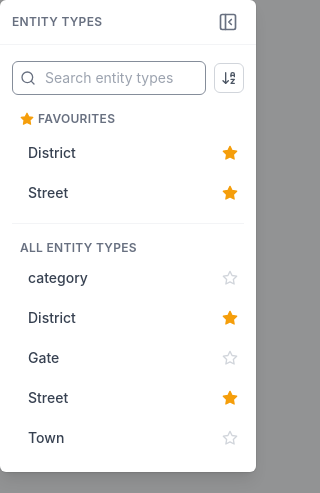
Test: ObjectTypeExplorer › favourites (PandiO/knk-workspace#194) › keeps favourites on top through search and the Z–A sort
The image size is (320, 493).
Click the button named "Sort Z to A" at x=229, y=78, box [214,63,244,93]
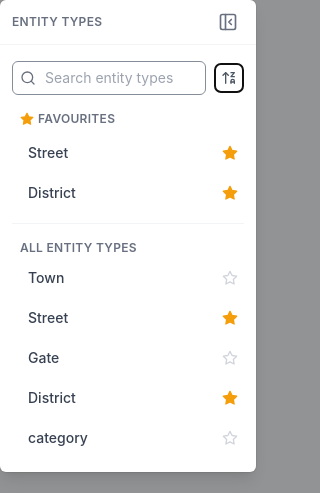
Type "st" into the search field at x=109, y=78, box [12,61,206,95]
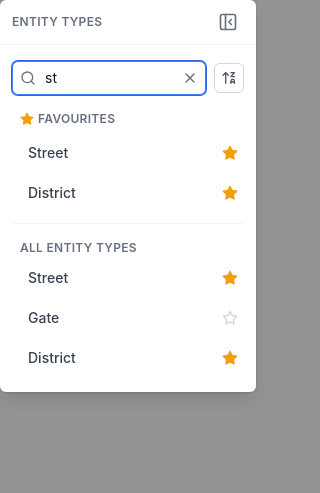
Replace the text in the search field with "gate" at x=109, y=78, box [12,61,206,95]
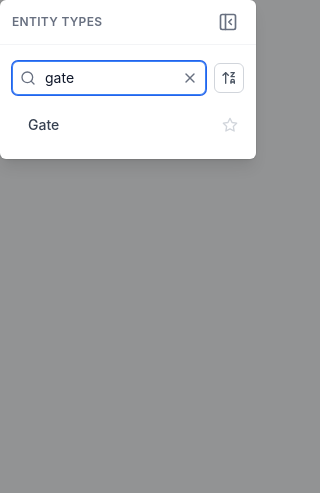
Check: the heading "Favourites" is gone
Check: the heading "All entity types" is gone
